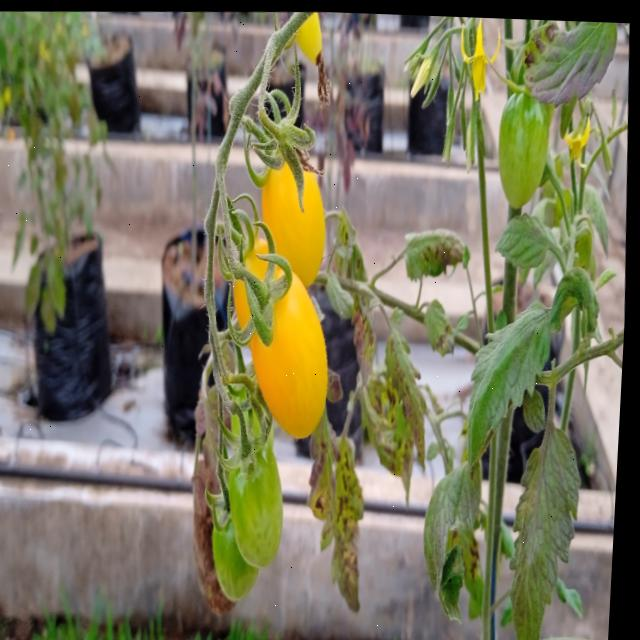fine: (252, 260, 343, 443), (258, 138, 338, 276), (226, 246, 280, 333), (284, 8, 329, 73)
unripe: (496, 75, 563, 209), (229, 440, 301, 562), (211, 489, 265, 600)
